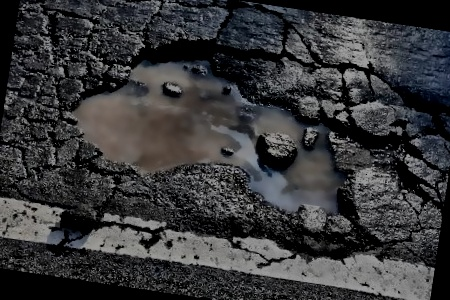pothole: (46, 15, 412, 265)
